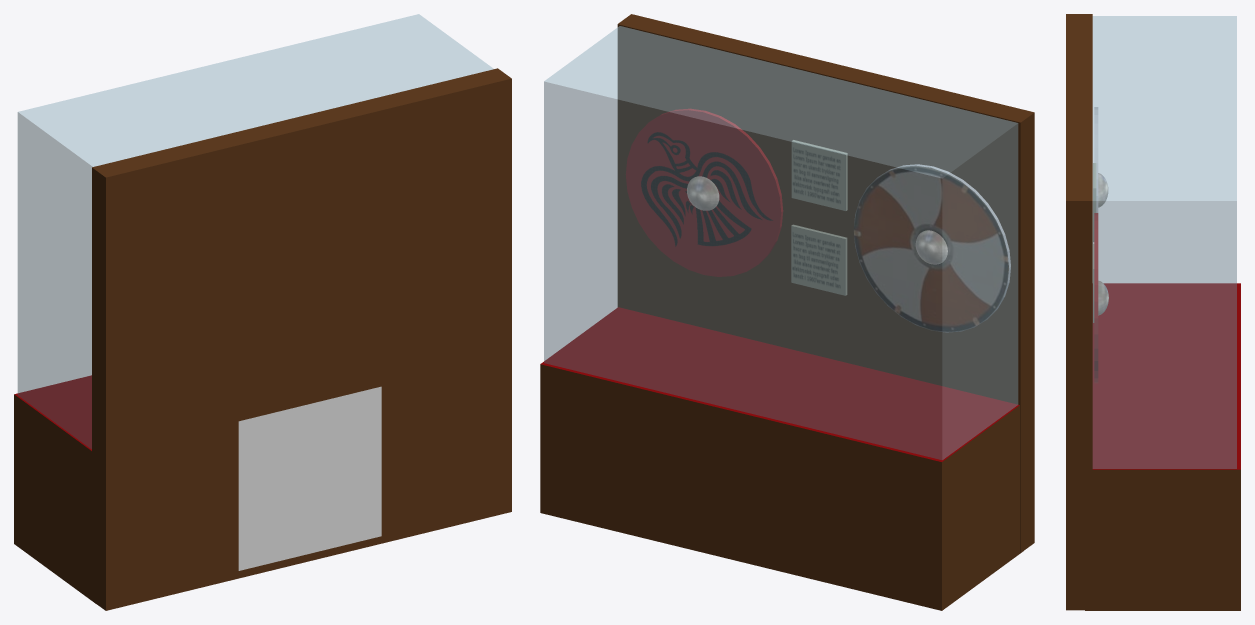
Rendered from montre_skjold.gltf.
3 renders of one model, left to right at view 1: azimuth 30°, elevation 25°; view 2: azimuth 150°, elevation 25°; view 3: azimuth 270°, elevation 25°, orthographic. The views are drawn at different scales.
Visible parts, largest first — view 1: Cube.001, glass, snap, Cube.002; view 2: glass, Cube.002, Cube.001, Cylinder.001, Cylinder, Cube.003, Cube, Sphere, Sphere.001; view 3: glass, Cube.002, Cube.001, Cylinder, Cylinder.001, Sphere, Sphere.001, Cube.
Boxes of the visible parts, x1,y1,x2,y2 form: Cube.001: (92, 68, 511, 610); glass: (17, 14, 493, 449); snap: (238, 386, 381, 570); Cube.002: (14, 375, 95, 603); glass: (544, 26, 1018, 459); Cube.002: (540, 307, 1023, 610); Cube.001: (617, 14, 1034, 552); Cylinder.001: (853, 164, 1010, 332); Cylinder: (626, 108, 783, 276); Cube.003: (791, 224, 847, 295); Cube: (791, 140, 847, 210); Sphere: (687, 176, 719, 210); Sphere.001: (915, 230, 947, 264); glass: (1092, 16, 1236, 468); Cube.002: (1085, 283, 1240, 610); Cube.001: (1066, 14, 1092, 610); Cylinder: (1094, 213, 1098, 383); Cylinder.001: (1094, 107, 1098, 212); Sphere: (1098, 281, 1108, 315); Sphere.001: (1098, 173, 1108, 207); Cube: (1093, 163, 1096, 242).
Size of the model in its own units: 3.79 by 3.87 by 1.52.
7 materials, 4 textured.
